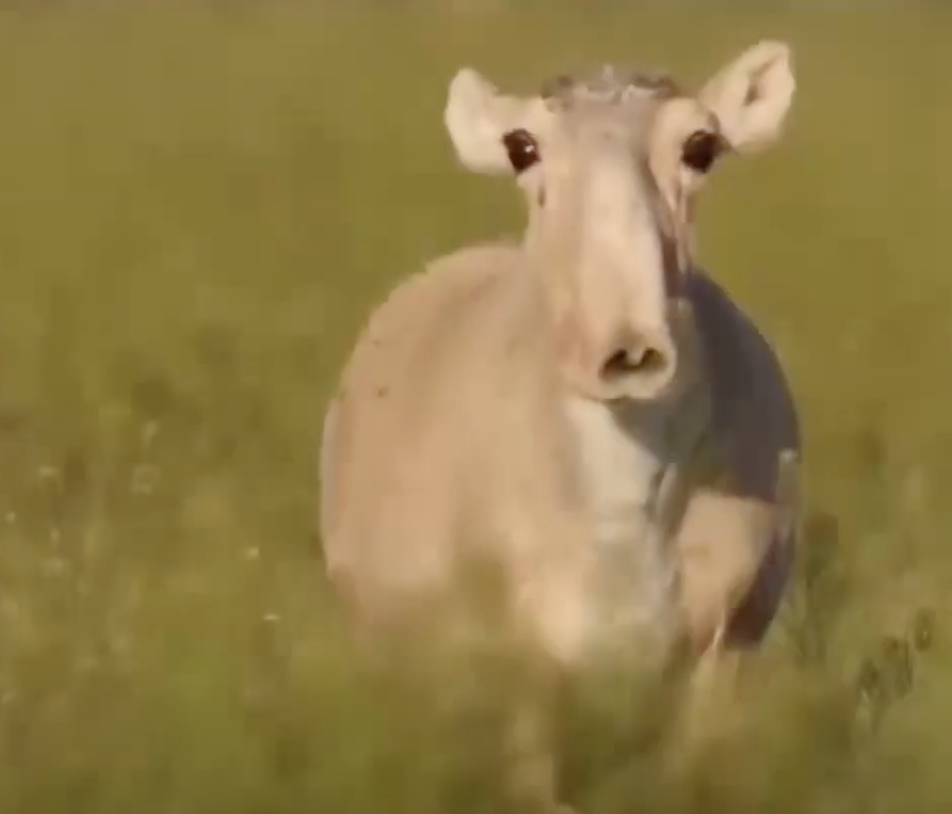saiga: (290, 38, 827, 655)
